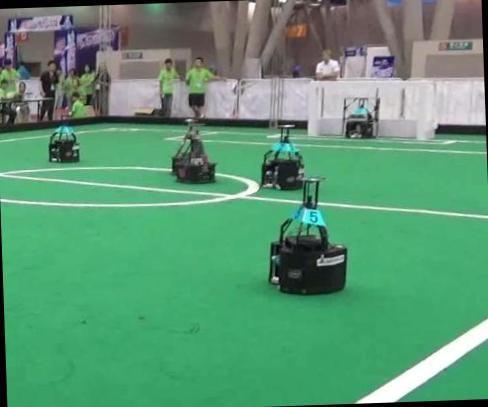goal: (415, 81, 428, 140), (307, 80, 320, 136)
robot: (268, 177, 346, 293), (260, 126, 303, 189), (171, 125, 215, 182), (342, 90, 380, 137), (48, 124, 78, 161)
